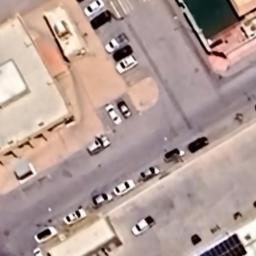others: (117, 56, 141, 76)
pickup: (106, 30, 132, 52)
sedan: (126, 214, 156, 238), (58, 205, 90, 224), (184, 133, 212, 154), (113, 94, 134, 120), (111, 176, 138, 196), (103, 104, 124, 128), (90, 192, 116, 208), (138, 166, 162, 181), (83, 0, 107, 14)
unknown: (162, 144, 188, 162)
van: (86, 134, 113, 158), (29, 226, 60, 242)
